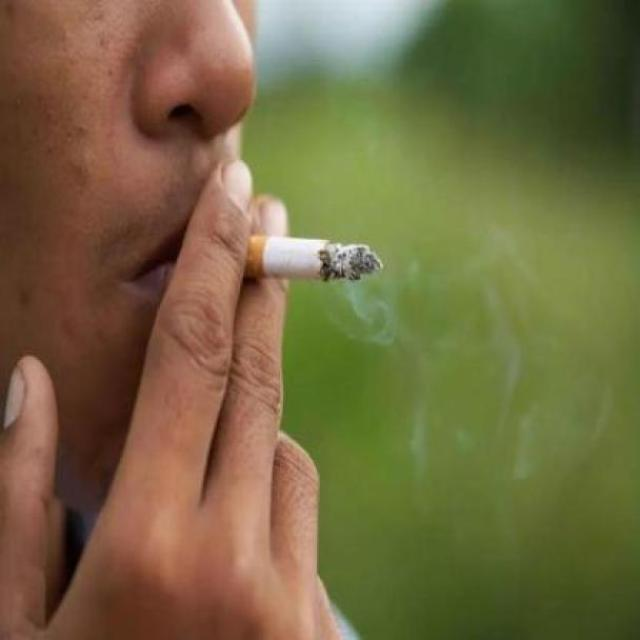rokok: (245, 230, 382, 292)
